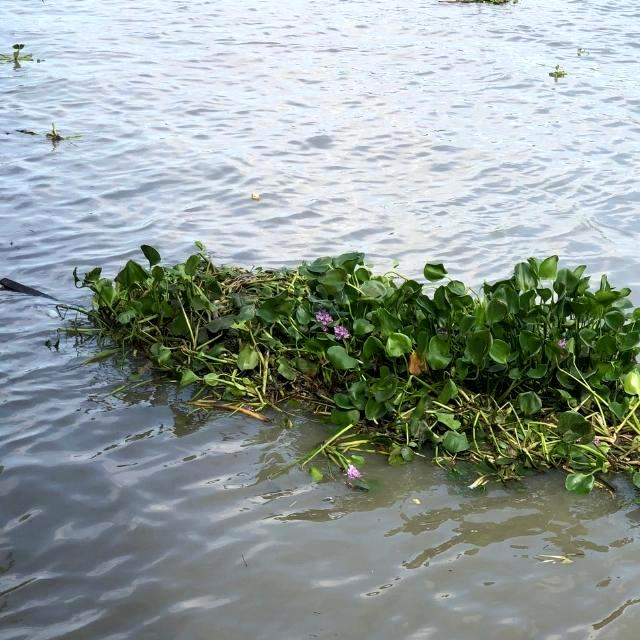water-hyacinth: (42, 245, 640, 484)
